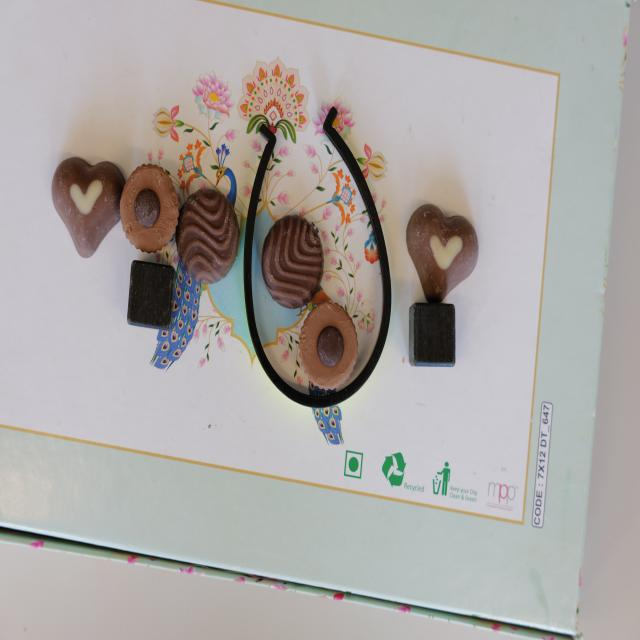Noblesse: (296, 296, 357, 393), (122, 166, 178, 257)
Noir_authentique: (260, 216, 325, 311), (177, 192, 239, 279)
Passion_au_lait: (48, 158, 129, 258), (407, 203, 475, 304)
